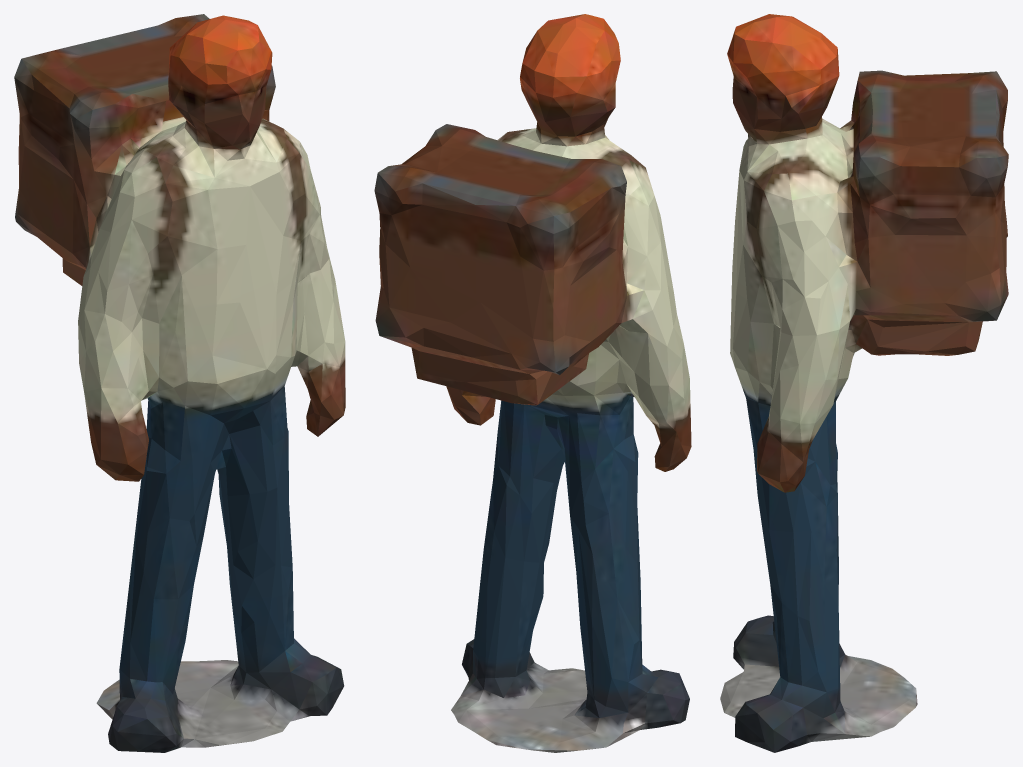
The model's file is habitant-loin.glb.
3 views of the same model, side by side, from view 1: azimuth 30°, elevation 25°; view 2: azimuth 150°, elevation 25°; view 3: azimuth 270°, elevation 25° (orthographic). The views are drawn at different scales.
Visible parts, largest first — view 1: habitant; view 2: habitant; view 3: habitant.
Part boxes in pixels (bbox=[...]): habitant: bbox=[14, 14, 345, 752]; habitant: bbox=[374, 14, 691, 752]; habitant: bbox=[720, 14, 1008, 752].
Size of the model in its own units: 0.3829 by 1.01 by 0.3855.
1 material, 1 textured.
